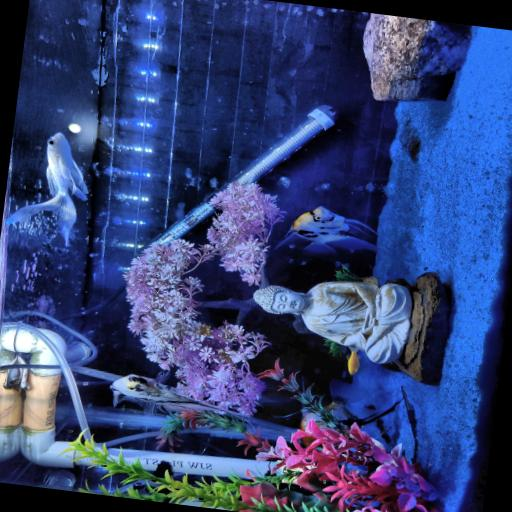Fish: (7, 133, 88, 245), (111, 372, 241, 416), (290, 207, 377, 252), (324, 380, 365, 425), (347, 351, 360, 375)
